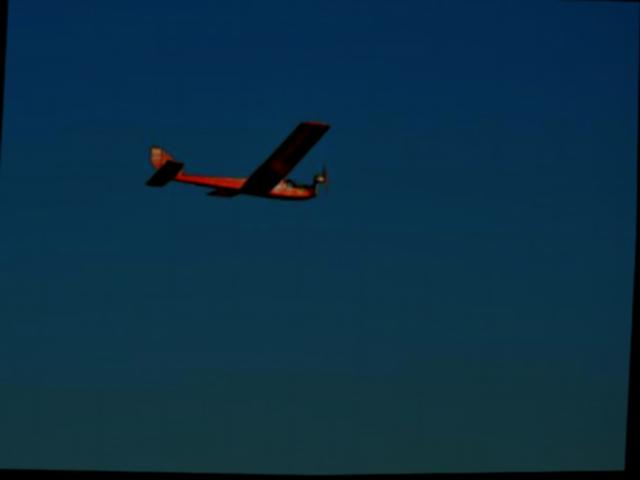iha: (136, 112, 335, 205)
